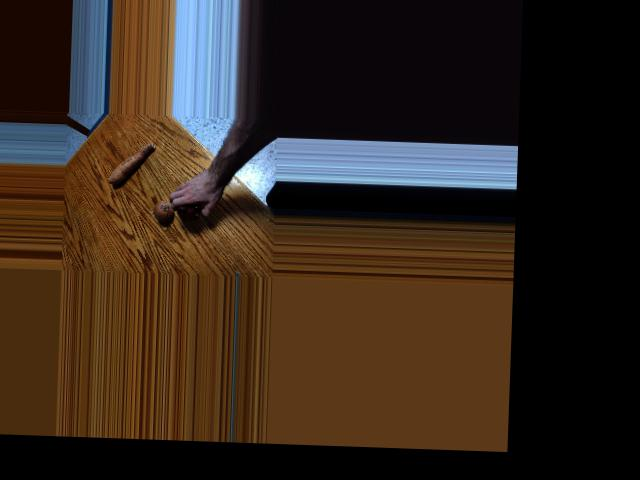onion: (175, 197, 198, 220)
